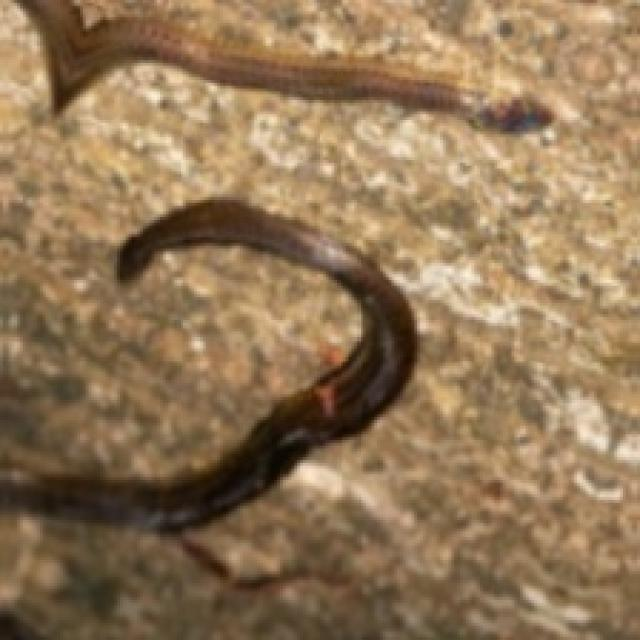gervais worm snake: (0, 200, 414, 529), (17, 0, 551, 129)
